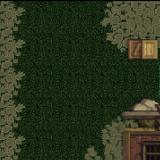Hide: (119, 24, 160, 72)
Obstacle: (56, 94, 160, 160)
